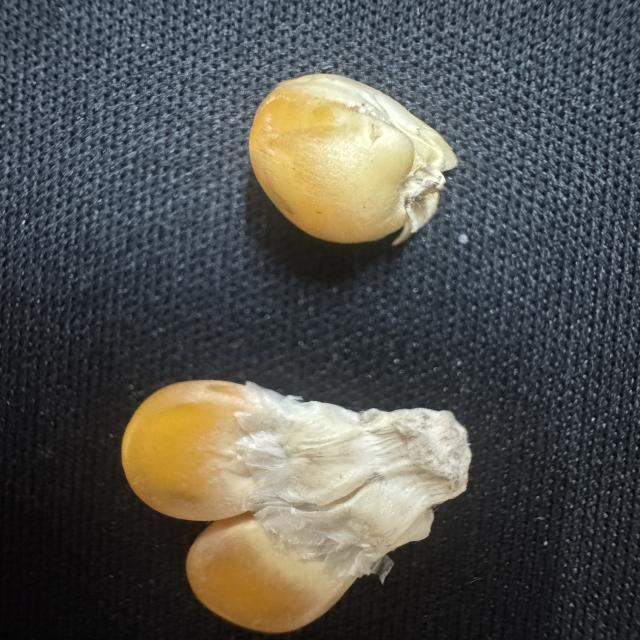Bad-Seed: (110, 370, 487, 634), (240, 68, 467, 254)
